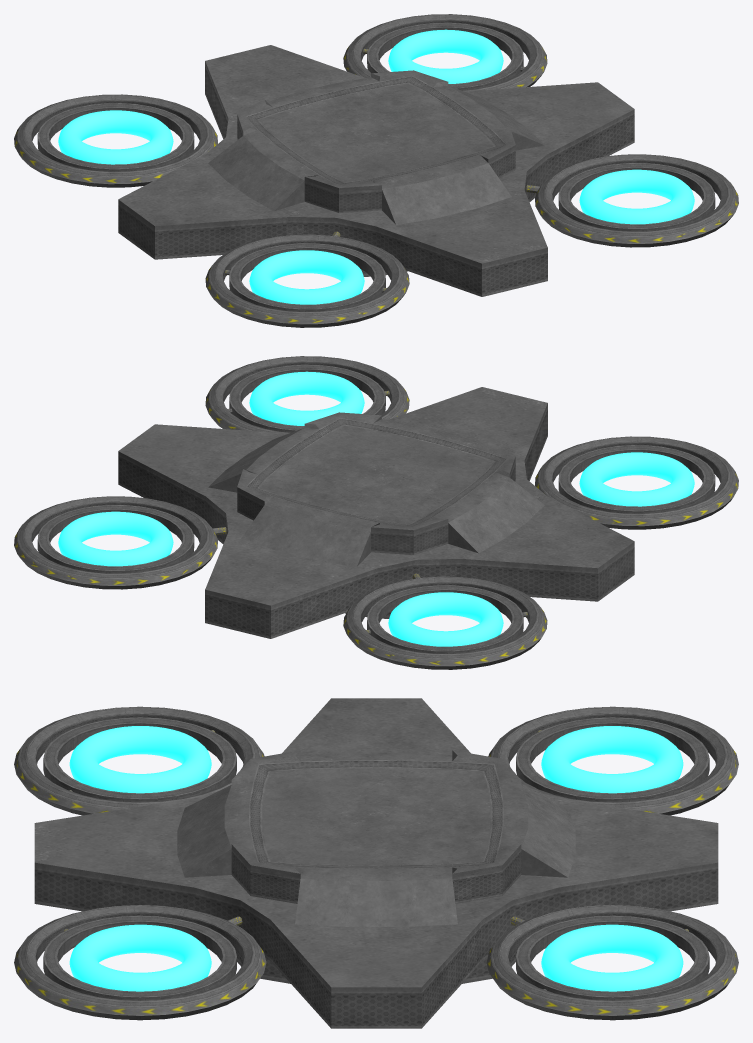
File: newPlatform.fbx
3 views of the same model, one above another, from view 1: azimuth 30°, elevation 25°; view 2: azimuth 150°, elevation 25°; view 3: azimuth 270°, elevation 25° (orthographic). The views are drawn at different scales.
Parts seen in each view (by area): view 1: Platform, Rings, BlueEffect; view 2: Platform, Rings, BlueEffect; view 3: Platform, Rings, BlueEffect.
Boxes of the visible parts, <box> form: Platform: <box>118,45,634,296</box>; Rings: <box>14,14,738,327</box>; BlueEffect: <box>58,29,694,304</box>; Platform: <box>118,387,634,638</box>; Rings: <box>14,356,738,669</box>; BlueEffect: <box>58,371,694,646</box>; Platform: <box>34,698,718,1028</box>; Rings: <box>14,706,738,1020</box>; BlueEffect: <box>69,726,683,991</box>.
Size of the model in its own units: 3167 by 542 by 3182.
